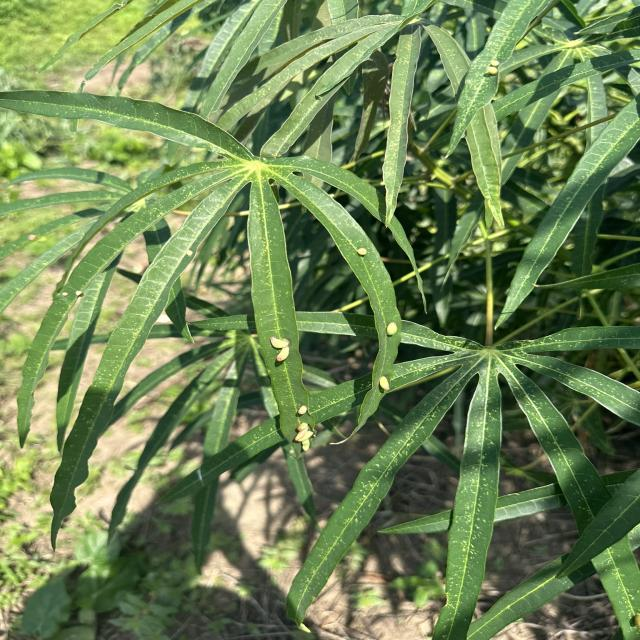Mosca: (288, 397, 330, 455), (249, 321, 302, 366), (481, 33, 511, 84), (15, 214, 52, 247), (359, 364, 399, 394), (52, 274, 91, 301), (378, 314, 411, 337), (340, 243, 376, 264), (619, 595, 640, 630)
